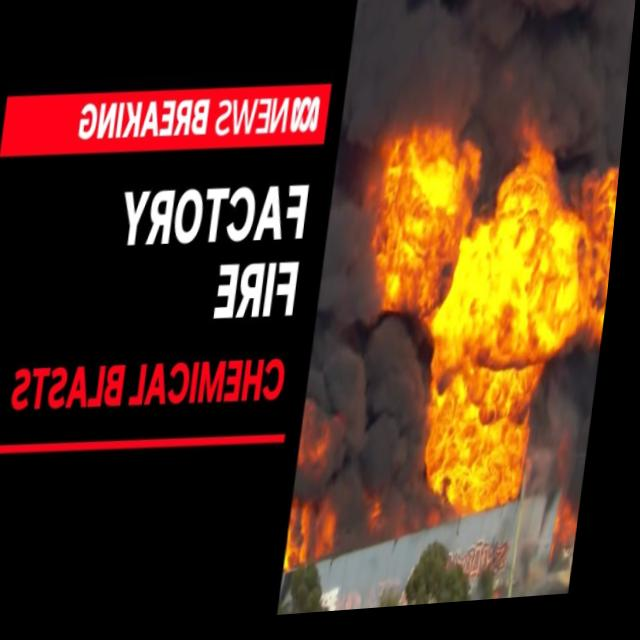Fire: (316, 128, 627, 559)
